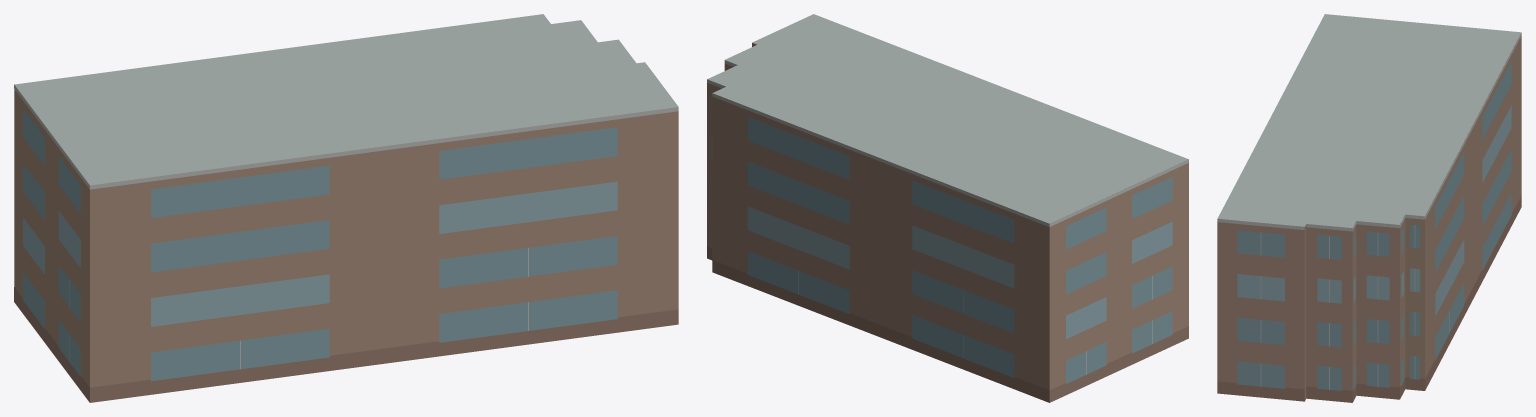
The model's file is survey-upis-32817539.glb.
3 views of the same model, side by side, from view 1: azimuth 30°, elevation 25°; view 2: azimuth 150°, elevation 25°; view 3: azimuth 270°, elevation 25° (orthographic). The views are drawn at different scales.
Visible parts, largest first — view 1: survey-upis-32817539.tmp; view 2: survey-upis-32817539.tmp; view 3: survey-upis-32817539.tmp.
Boxes of the visible parts, x1,y1,x2,y2 form: survey-upis-32817539.tmp: [14, 14, 678, 402]; survey-upis-32817539.tmp: [707, 14, 1188, 402]; survey-upis-32817539.tmp: [1217, 14, 1521, 402].
Bounding box in the file's own units: 33.39 × 12.7 × 20.05.
